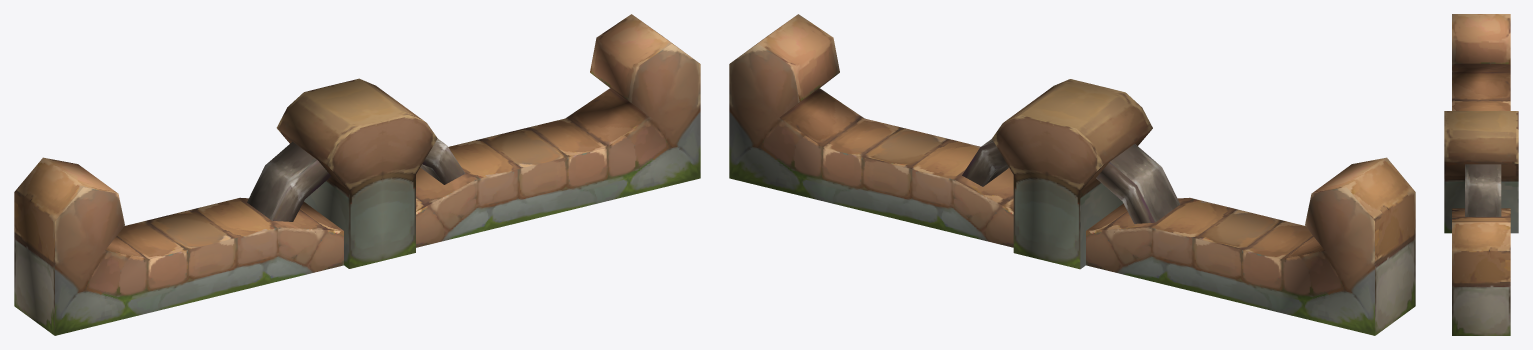
Rendered from Map_06_wall14.FBX.
3 renders of one model, left to right at view 1: azimuth 30°, elevation 25°; view 2: azimuth 150°, elevation 25°; view 3: azimuth 270°, elevation 25°, orthographic. The views are drawn at different scales.
Parts seen in each view (by area): view 1: Map_06_wall14; view 2: Map_06_wall14; view 3: Map_06_wall14.
Part boxes in pixels (bbox=[...]): Map_06_wall14: bbox=[14, 14, 700, 335]; Map_06_wall14: bbox=[729, 14, 1415, 335]; Map_06_wall14: bbox=[1444, 14, 1518, 335].
Bounding box in the file's own units: 737 × 101 × 155.
